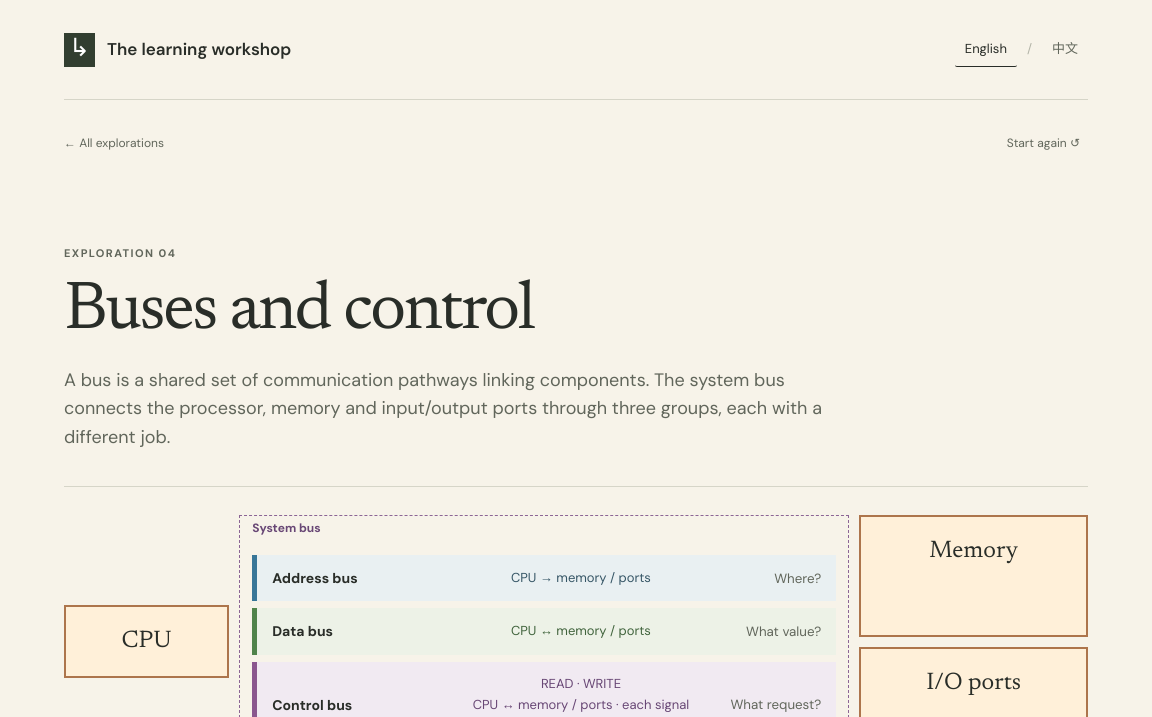
Scenario: shows the bus system and explains the three roles in both languages
expect the heading "Buses and control" is shown: met, box x1=64 y1=278 x2=534 y2=346
expect the text "Address bus" is shown: met, box x1=272 y1=569 x2=358 y2=587
What coordinates should you click on to do the following:
click the button "中文"
I would click on:
 (1065, 50)
Its box is x1=1042 y1=32 x2=1088 y2=67.
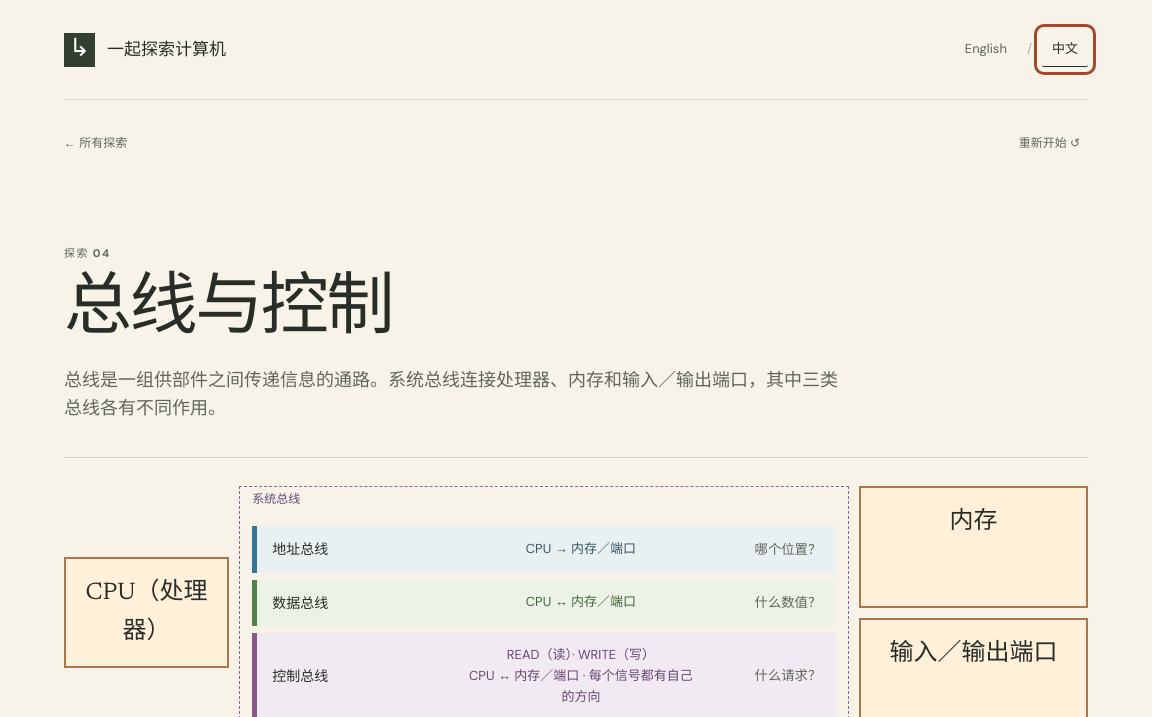
expect the heading "总线与控制" is shown: met, box x1=64 y1=278 x2=392 y2=346
expect the text "地址总线" is shown: met, box x1=272 y1=540 x2=328 y2=558
expect the text "数据总线" is shown: met, box x1=272 y1=594 x2=328 y2=612
